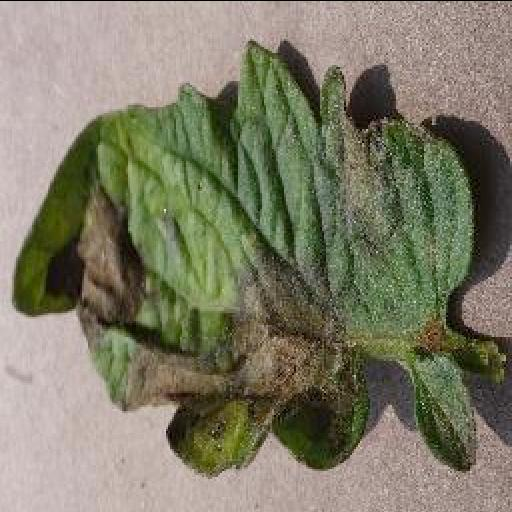disease_tomato: (11, 34, 481, 476)
